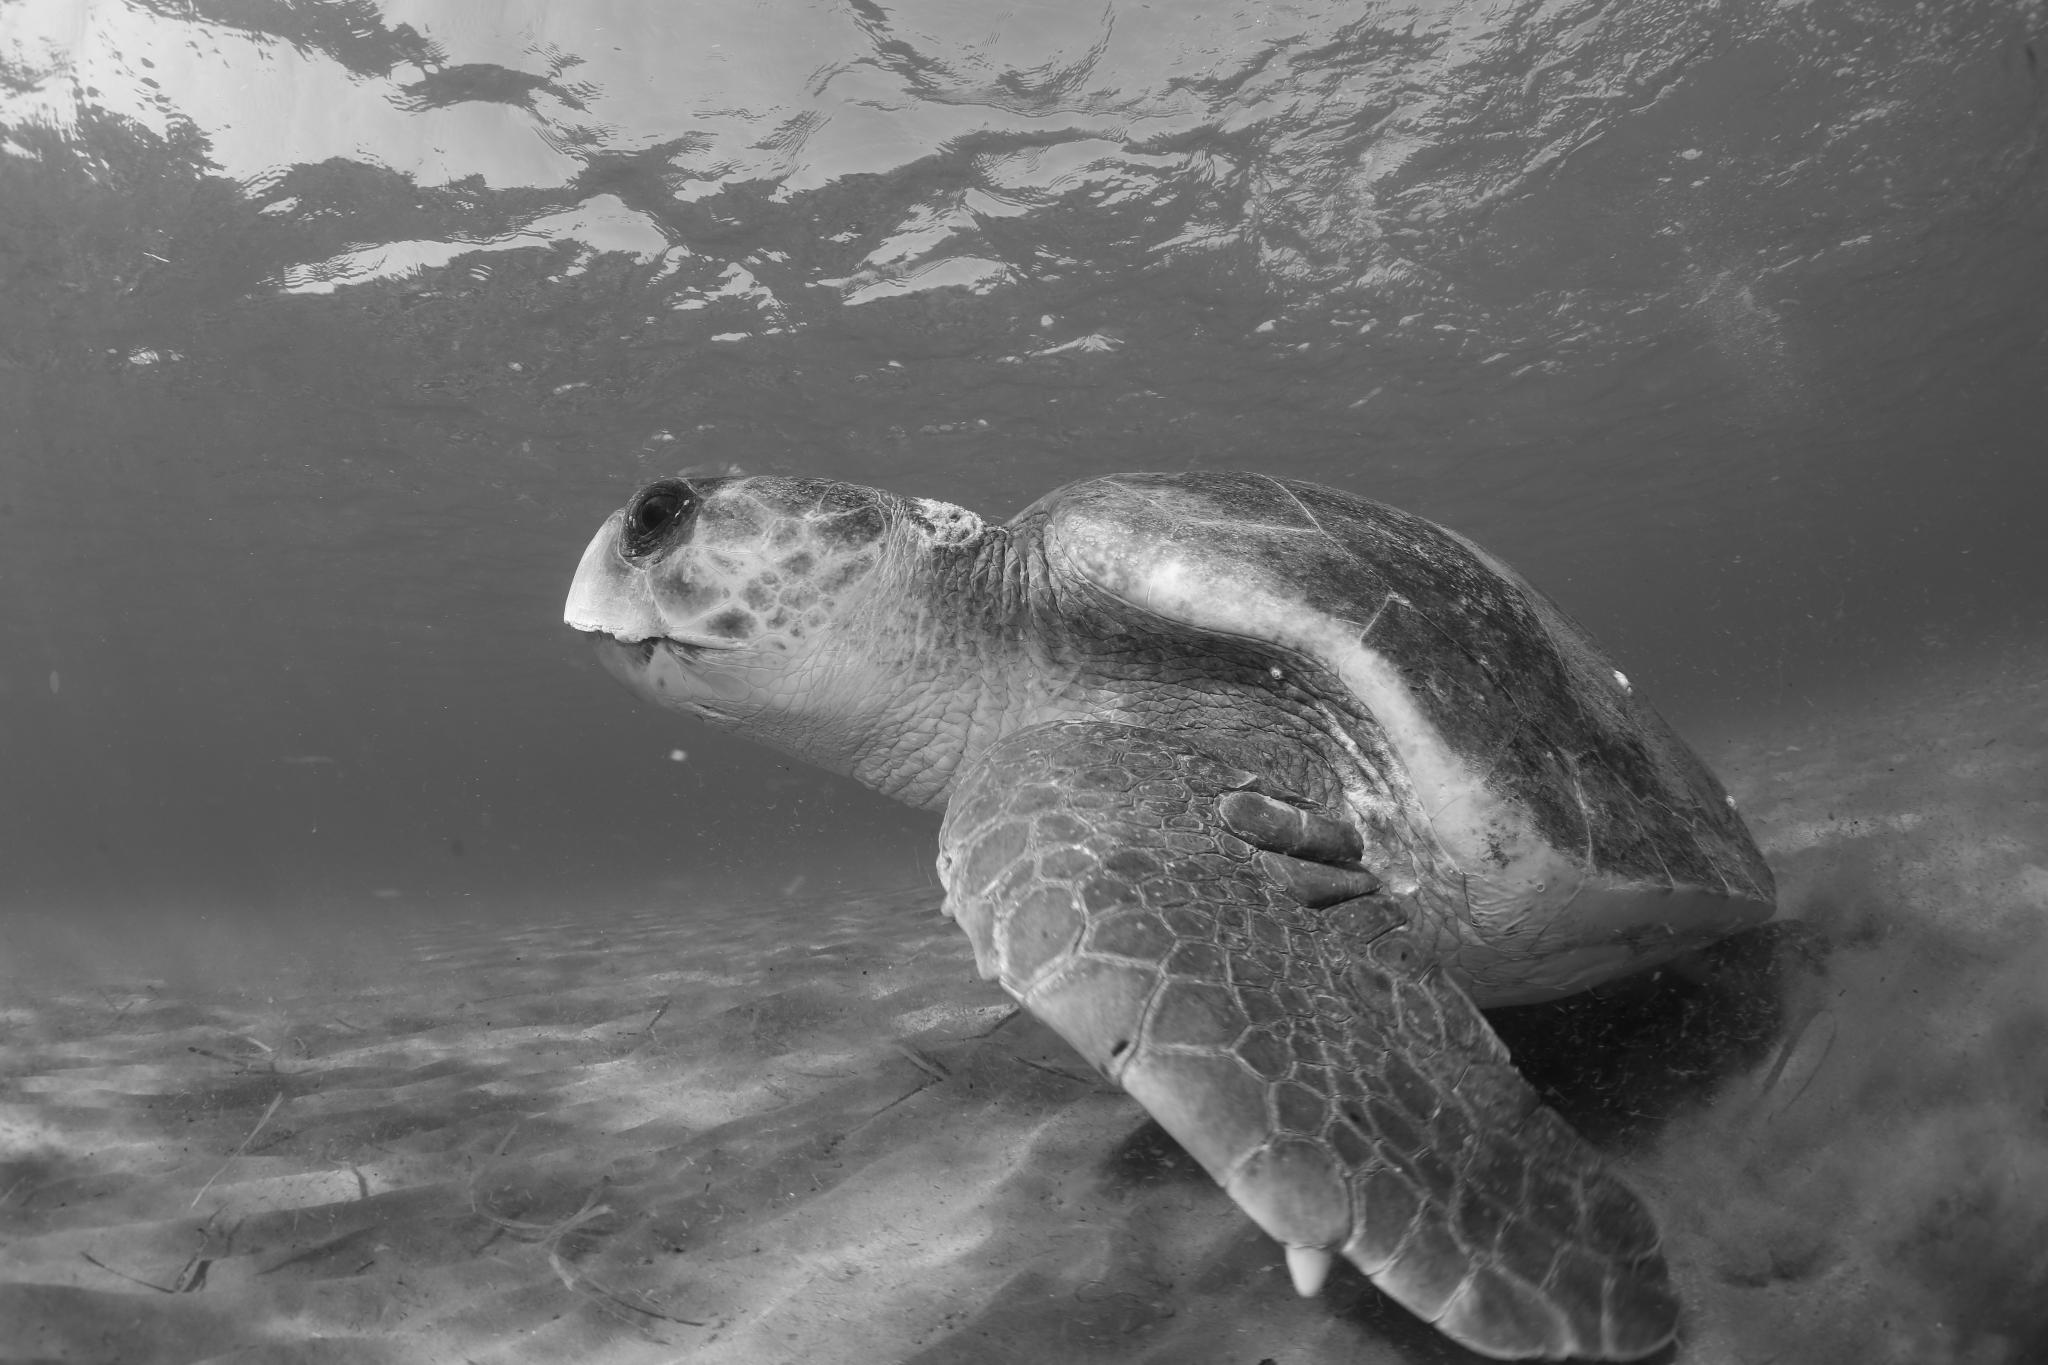Head: (564, 476, 987, 811)
